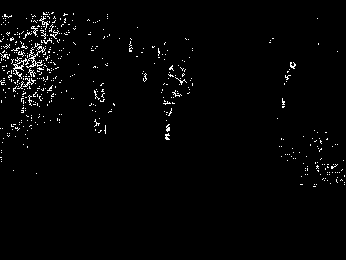person: (161, 70, 182, 144)
